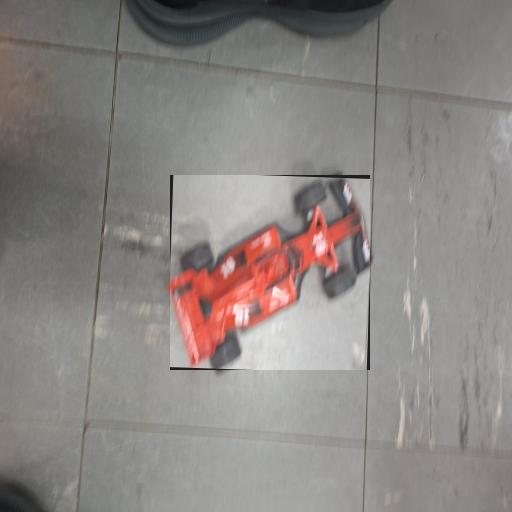carro: (169, 175, 369, 369)
